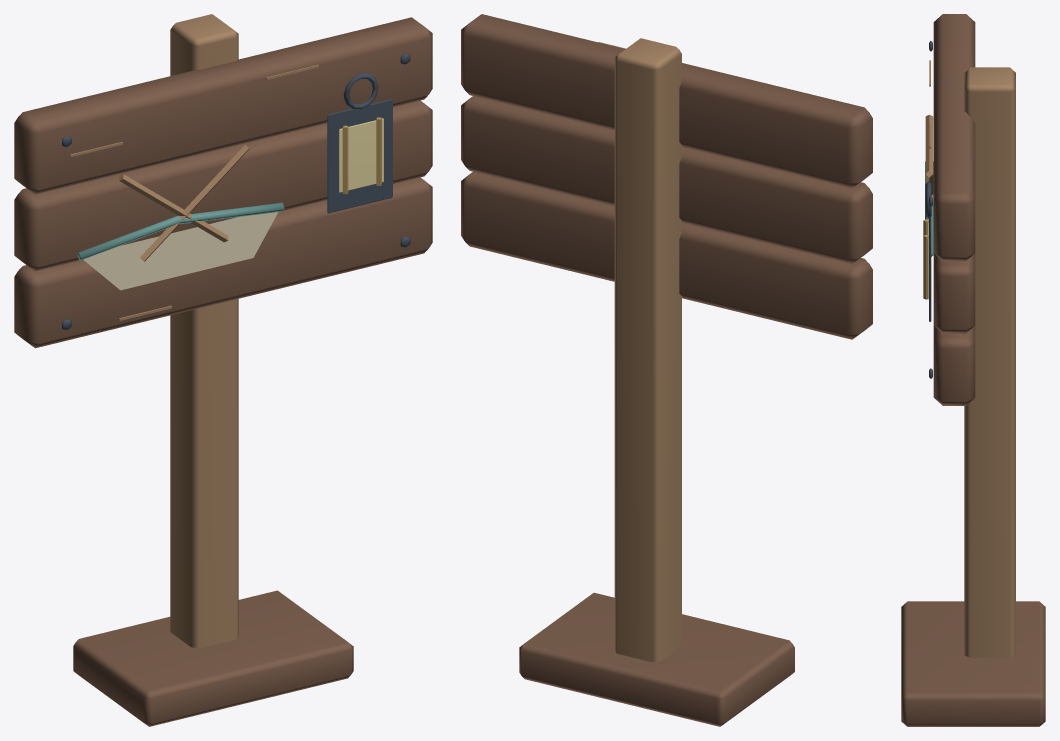
Rendered from nameplate.glb.
The picture shows the model from 3 angles, left to right: view 1: azimuth 30°, elevation 25°; view 2: azimuth 150°, elevation 25°; view 3: azimuth 270°, elevation 25°; orthographic projection. The views are drawn at different scales.
Visible parts, largest first — view 1: Weathered board plank.002, Weathered sign post, Weathered board plank, Weathered board plank.001, Stable wooden foot, Painted rowing boat, Painted lantern silhouette, Painted lantern glow, Painted boat gunwale, Painted crossed oar.001, Painted crossed oar; view 2: Weathered sign post, Weathered board plank.002, Weathered board plank, Weathered board plank.001, Stable wooden foot; view 3: Weathered sign post, Stable wooden foot, Weathered board plank.002, Weathered board plank, Weathered board plank.001, Painted crossed oar.001, Painted lantern frame.001, Painted lantern silhouette, Painted boat gunwale.
Boxes of the visible parts, x1=… form: Weathered board plank.002: x1=14, y1=17, x2=432, y2=194; Weathered sign post: x1=170, y1=14, x2=238, y2=648; Weathered board plank: x1=14, y1=177, x2=432, y2=348; Weathered board plank.001: x1=14, y1=100, x2=432, y2=271; Stable wooden foot: x1=73, y1=590, x2=353, y2=726; Painted rowing boat: x1=83, y1=212, x2=278, y2=290; Painted lantern silhouette: x1=327, y1=99, x2=392, y2=213; Painted lantern glow: x1=339, y1=118, x2=383, y2=192; Painted boat gunwale: x1=77, y1=202, x2=284, y2=260; Painted crossed oar.001: x1=119, y1=174, x2=228, y2=242; Painted crossed oar: x1=140, y1=144, x2=249, y2=261; Weathered sign post: x1=614, y1=38, x2=681, y2=662; Weathered board plank.002: x1=461, y1=14, x2=872, y2=188; Weathered board plank: x1=461, y1=171, x2=872, y2=339; Weathered board plank.001: x1=461, y1=96, x2=872, y2=263; Stable wooden foot: x1=519, y1=592, x2=794, y2=726; Weathered sign post: x1=964, y1=67, x2=1015, y2=657; Stable wooden foot: x1=901, y1=601, x2=1045, y2=726; Weathered board plank.002: x1=933, y1=14, x2=975, y2=261; Weathered board plank: x1=933, y1=325, x2=975, y2=405; Weathered board plank.001: x1=933, y1=253, x2=975, y2=333; Painted crossed oar.001: x1=925, y1=114, x2=933, y2=201; Painted lantern frame.001: x1=923, y1=234, x2=928, y2=299; Painted lantern silhouette: x1=929, y1=216, x2=931, y2=321; Painted boat gunwale: x1=925, y1=161, x2=933, y2=256.
Size of the model in its own units: 0.58 by 0.88 by 0.19.
